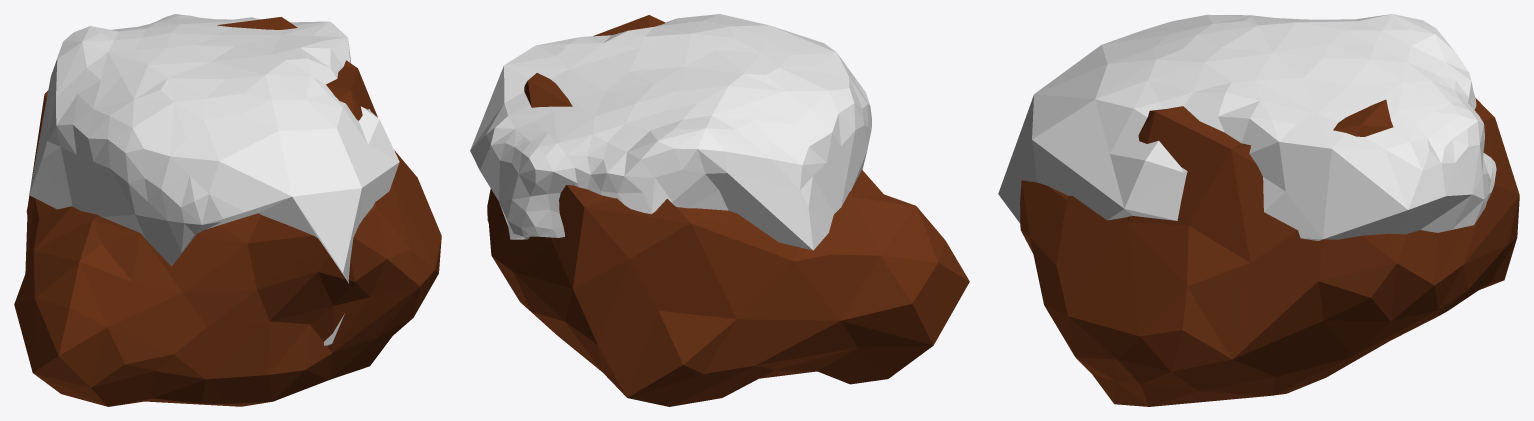
The model's file is Tre_piattaforma.fbx.
3 renders of one model, left to right at view 1: azimuth 30°, elevation 25°; view 2: azimuth 150°, elevation 25°; view 3: azimuth 270°, elevation 25°, orthographic. The views are drawn at different scales.
Visible parts, largest first — view 1: Sphere.158, Sphere.157; view 2: Sphere.158, Sphere.157; view 3: Sphere.158, Sphere.157.
Boxes of the visible parts, x1,y1,x2,y2 form: Sphere.158: (14, 17, 441, 406); Sphere.157: (29, 14, 399, 345); Sphere.158: (487, 15, 969, 406); Sphere.157: (470, 14, 871, 250); Sphere.158: (1020, 98, 1519, 406); Sphere.157: (998, 14, 1496, 240).
Size of the model in its own units: 18.41 by 13.41 by 19.12.
